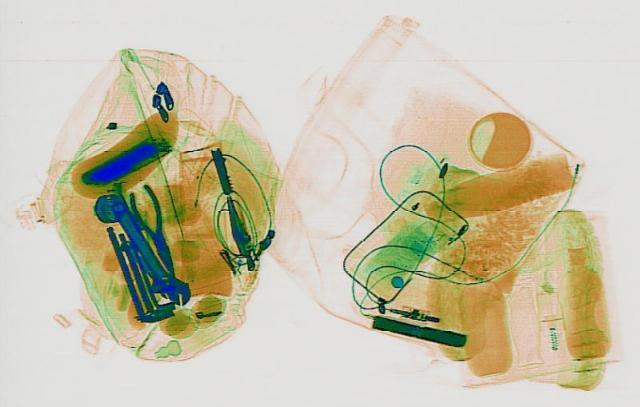Pliers: (118, 182, 186, 271)
Wrench: (92, 196, 200, 309)
